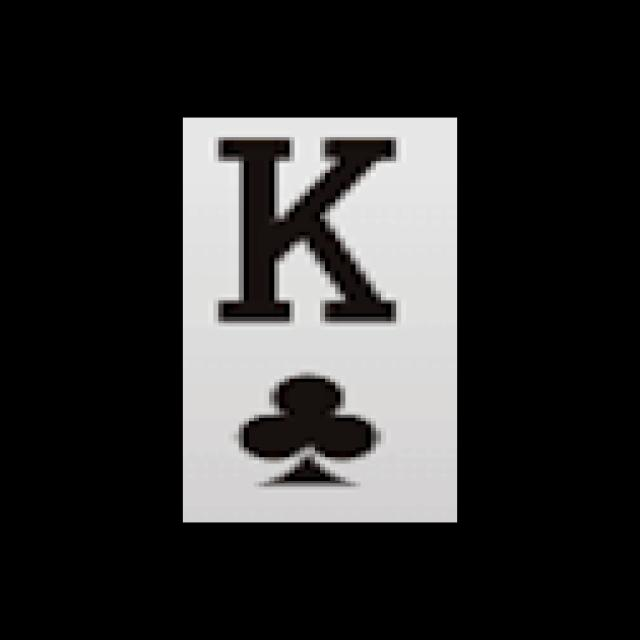KC: (195, 128, 424, 497)
